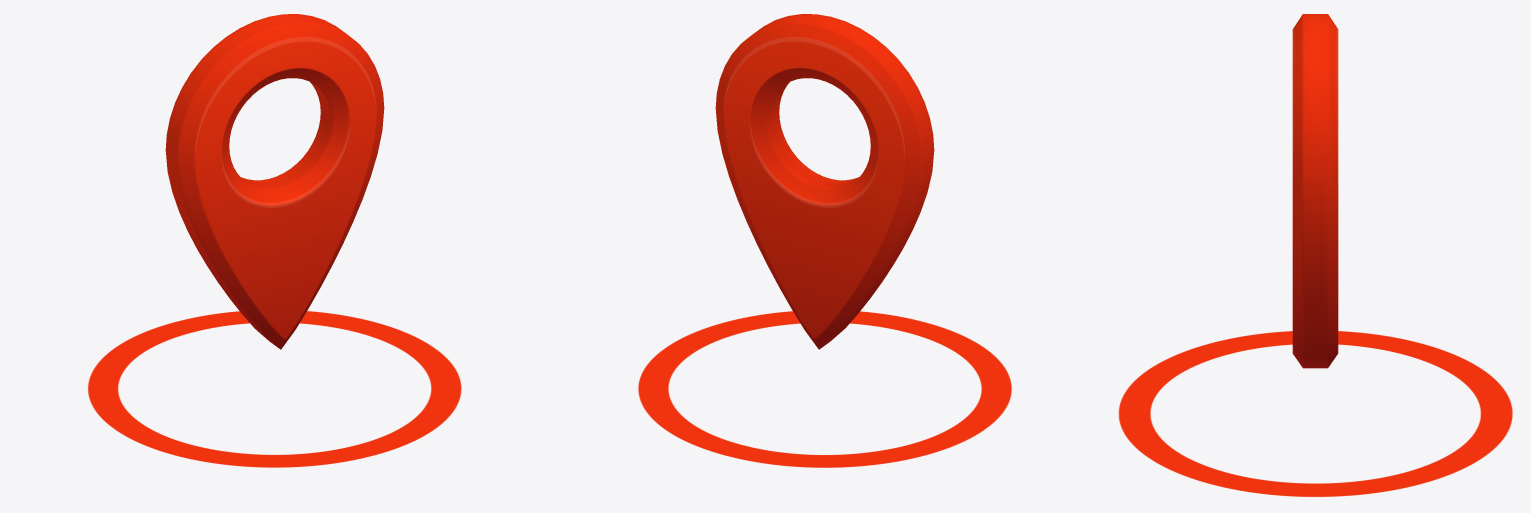
3 views of the same model, side by side, from view 1: azimuth 30°, elevation 25°; view 2: azimuth 150°, elevation 25°; view 3: azimuth 270°, elevation 25° (orthographic). The views are drawn at different scales.
Parts seen in each view (by area): view 1: pointer, circle; view 2: pointer, circle; view 3: pointer, circle.
Boxes of the visible parts, left/top/right/bottom form: pointer: left=165, top=14, right=384, bottom=349; circle: left=88, top=311, right=461, bottom=467; pointer: left=715, top=14, right=934, bottom=349; circle: left=638, top=311, right=1011, bottom=467; pointer: left=1292, top=14, right=1338, bottom=368; circle: left=1118, top=331, right=1512, bottom=496.
Bounding box in the file's own units: 160 × 170 × 160.
Materials: 1 (1 with a texture image).
